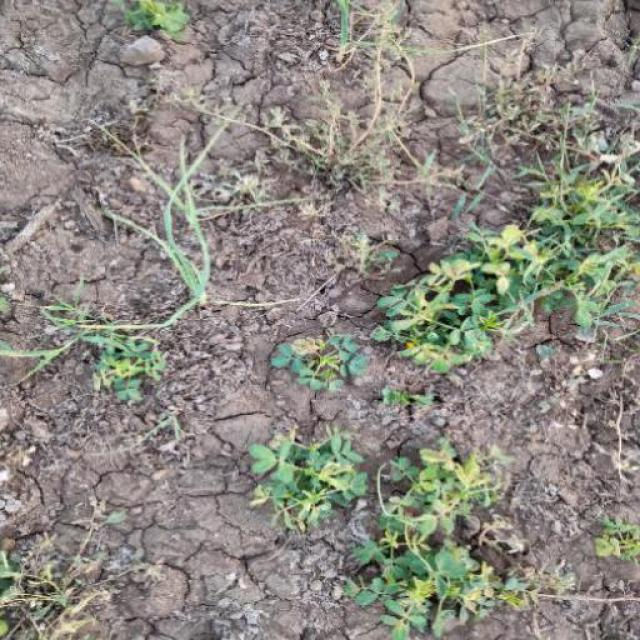weed: (385, 146, 626, 400), (255, 434, 536, 621), (61, 128, 304, 332)
